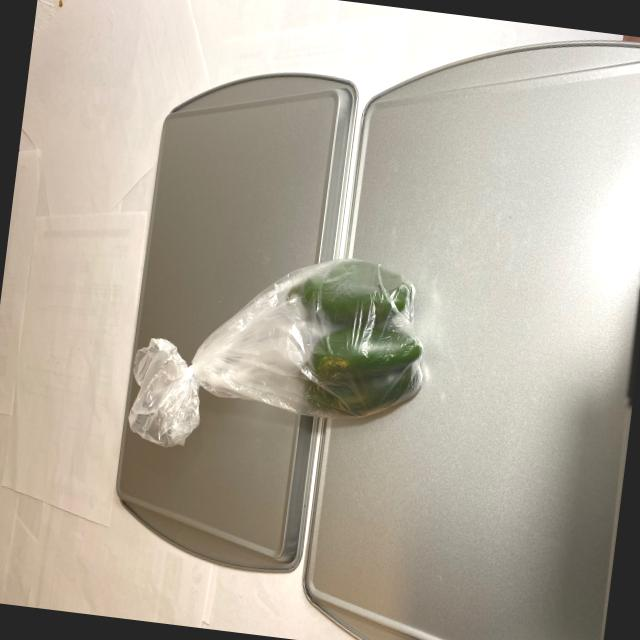chilli: (272, 245, 442, 436)
